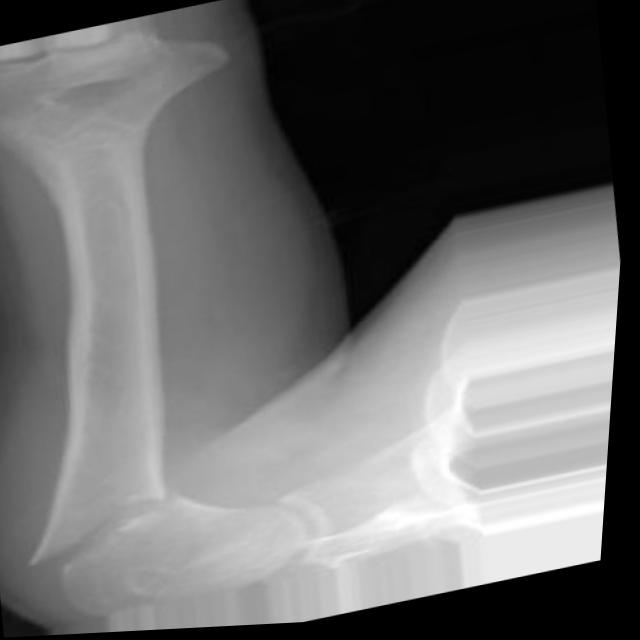fracture: (5, 484, 195, 591)
